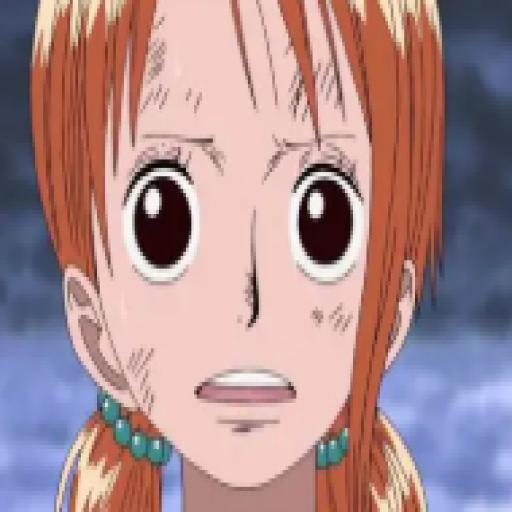Nami: (26, 1, 458, 512)
